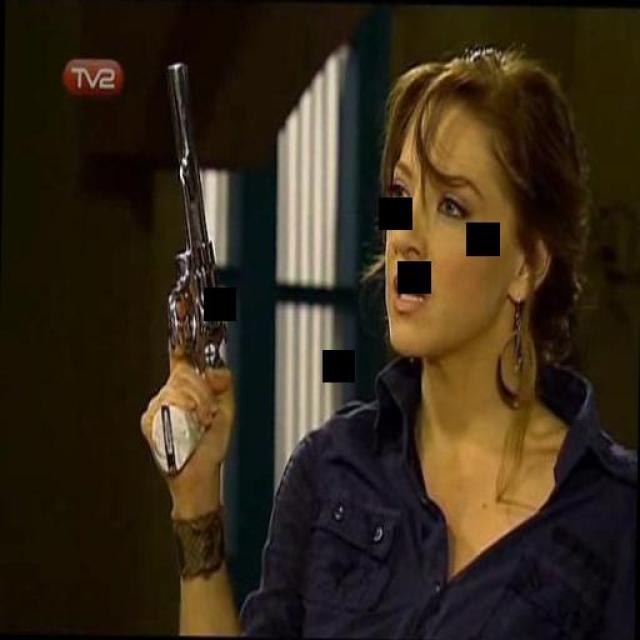gun: (129, 58, 231, 474)
